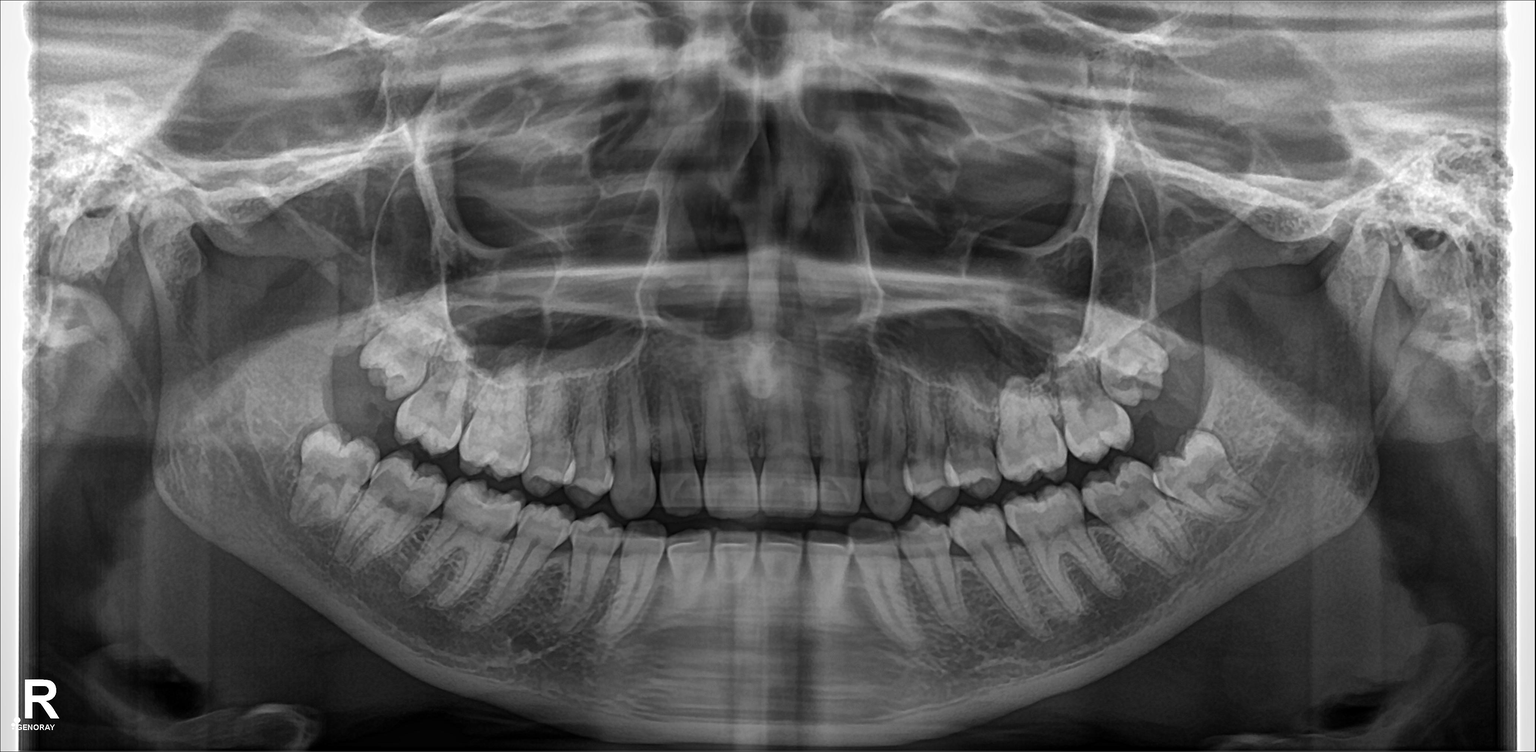Impacted Third Molar: (1160, 443, 1272, 512), (352, 307, 431, 390), (1097, 326, 1172, 401)
